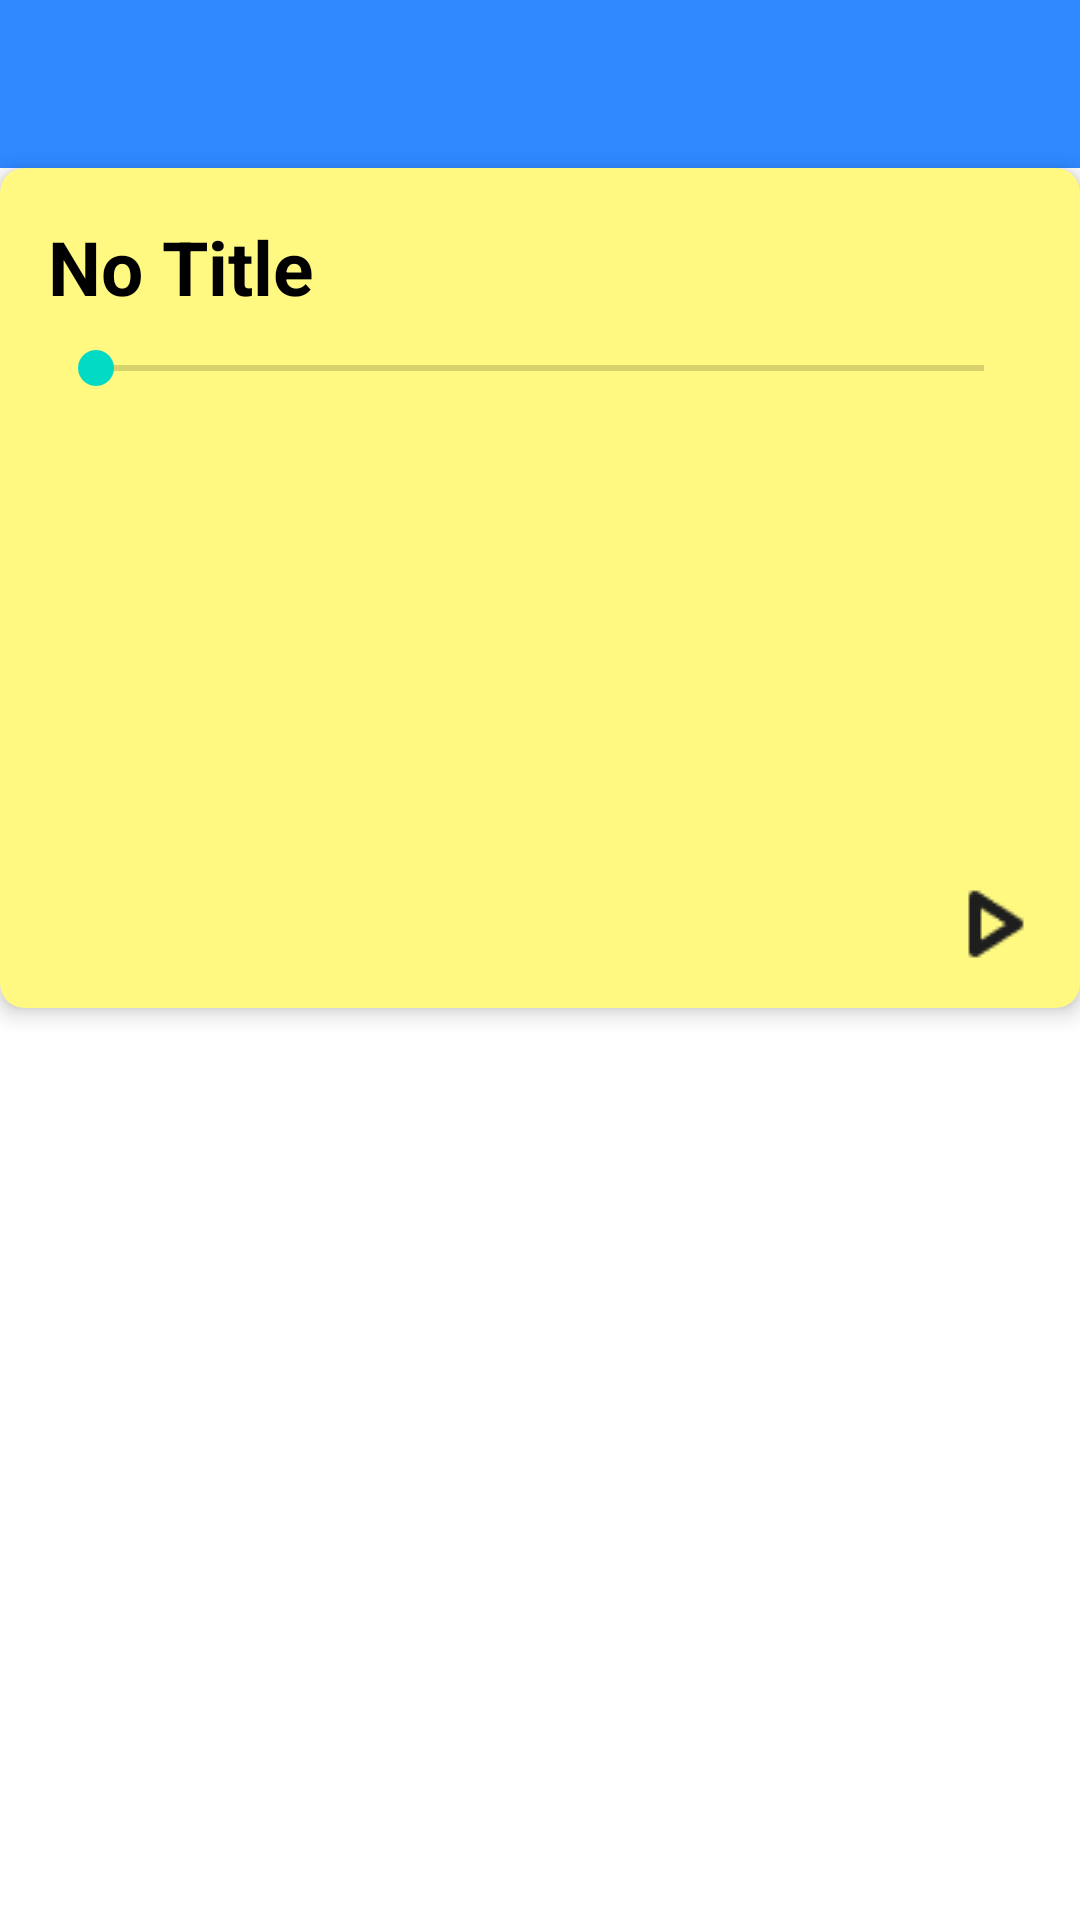

Where to tap for icons on this 1080w x 1920h app screen, as [x,y]:
Play or pause the current song: [996,924]
